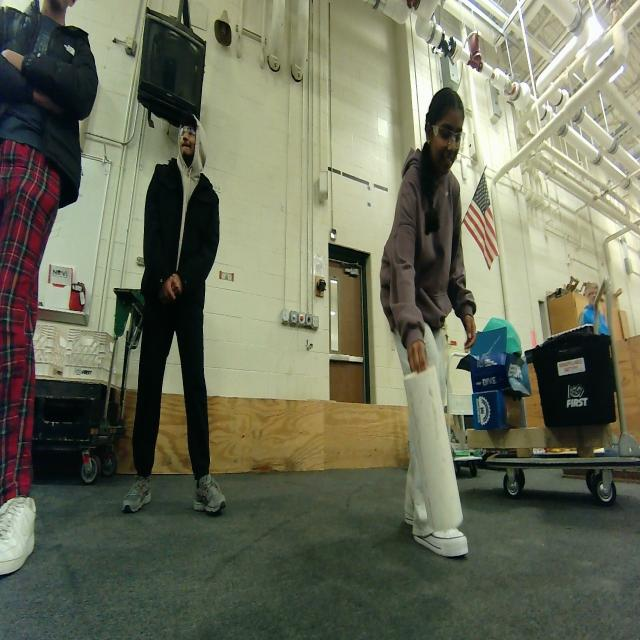coral: (404, 366, 468, 535)
